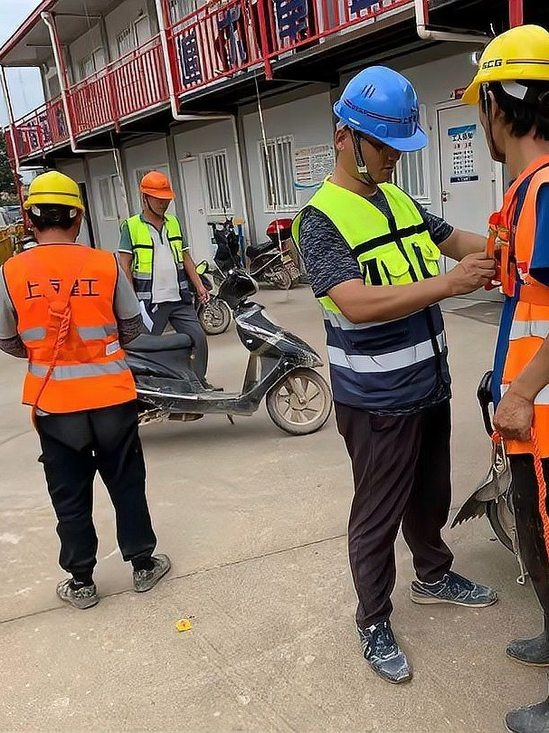safety belt: (14, 247, 115, 383), (480, 189, 548, 364)
